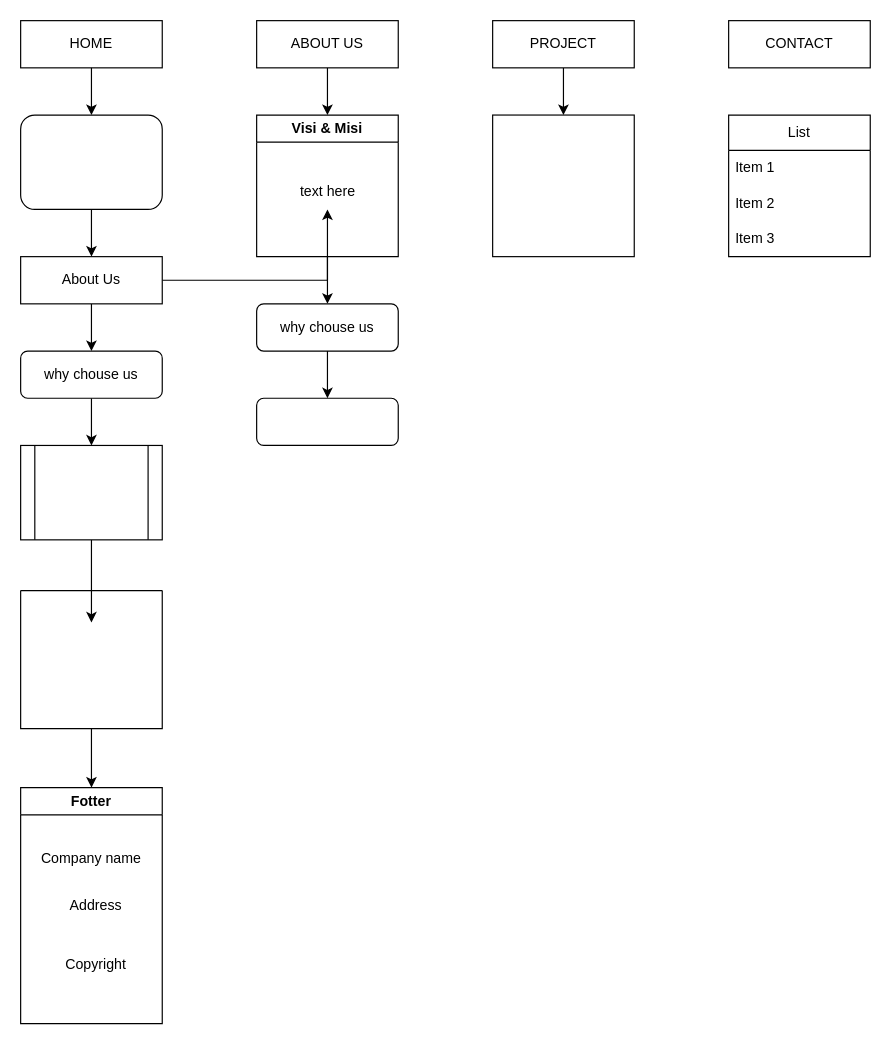
This 891x1044 diagram has some shape labels left out. The centre of each missing label's shape, as x and y in pixels:
"componen proyek" belongs at point 326,421.
"How to Cooperation with us" belongs at point 90,492.
"Instagram feed" belongs at point 90,659.
"Portofolio Proyek" belongs at point 562,185.
"Slider Project" belongs at point 90,161.
